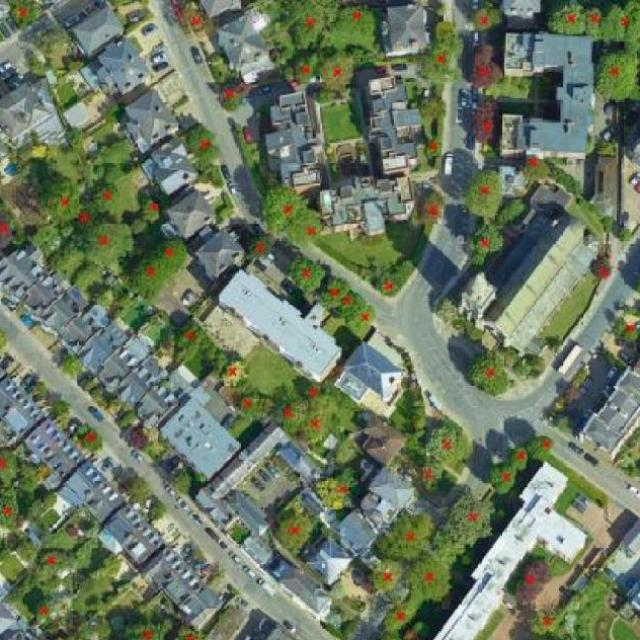tree: (77, 220, 136, 268), (425, 20, 464, 86), (37, 176, 90, 224), (387, 511, 435, 563), (466, 346, 511, 398), (451, 495, 499, 543), (260, 185, 310, 231), (511, 557, 557, 606), (406, 558, 455, 603), (314, 466, 360, 512), (464, 168, 504, 220), (598, 51, 639, 100), (287, 0, 327, 50), (427, 422, 469, 467), (273, 509, 315, 552), (468, 41, 503, 89), (414, 186, 449, 228), (176, 2, 217, 36), (335, 1, 378, 33), (372, 266, 408, 304), (471, 96, 499, 144), (290, 254, 325, 292), (412, 455, 446, 494), (189, 126, 221, 166), (156, 235, 187, 276), (244, 229, 278, 266), (435, 526, 469, 563), (297, 409, 335, 442), (487, 461, 522, 496), (412, 91, 449, 124), (550, 1, 587, 33), (371, 556, 405, 590), (321, 52, 354, 87), (214, 81, 253, 110), (136, 253, 165, 292), (122, 616, 169, 640), (509, 353, 549, 381), (527, 608, 562, 640), (274, 397, 306, 431), (174, 322, 209, 353), (77, 420, 106, 457), (70, 617, 116, 640), (294, 212, 325, 246), (93, 180, 123, 215), (232, 383, 261, 418), (113, 475, 152, 501), (219, 356, 248, 390), (35, 546, 76, 570), (303, 374, 330, 410), (291, 53, 322, 84), (38, 26, 70, 56), (518, 153, 551, 182), (333, 293, 369, 319), (614, 310, 640, 346), (7, 0, 40, 28), (123, 424, 153, 454), (472, 4, 503, 33), (386, 602, 417, 631), (49, 144, 78, 175), (319, 276, 348, 306), (26, 599, 59, 625), (349, 305, 378, 334), (589, 255, 619, 283), (101, 139, 136, 163), (604, 5, 626, 42), (95, 553, 123, 582), (56, 353, 88, 378), (19, 462, 47, 490), (145, 496, 171, 525), (170, 470, 197, 496), (623, 0, 640, 41), (531, 434, 555, 463), (0, 492, 21, 525), (510, 444, 535, 471), (91, 160, 126, 179), (174, 622, 210, 640), (142, 194, 163, 224), (423, 137, 447, 163), (13, 542, 38, 565), (588, 1, 602, 40), (0, 451, 17, 483), (0, 209, 13, 250), (78, 204, 98, 229), (27, 143, 50, 161), (373, 632, 414, 640), (81, 526, 104, 538), (54, 400, 68, 418), (621, 225, 635, 243), (0, 322, 7, 350)
